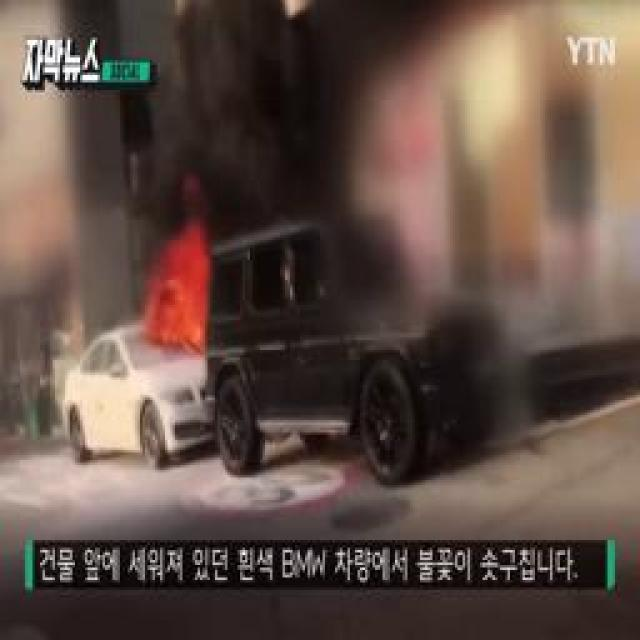Fire: (150, 232, 210, 340)
